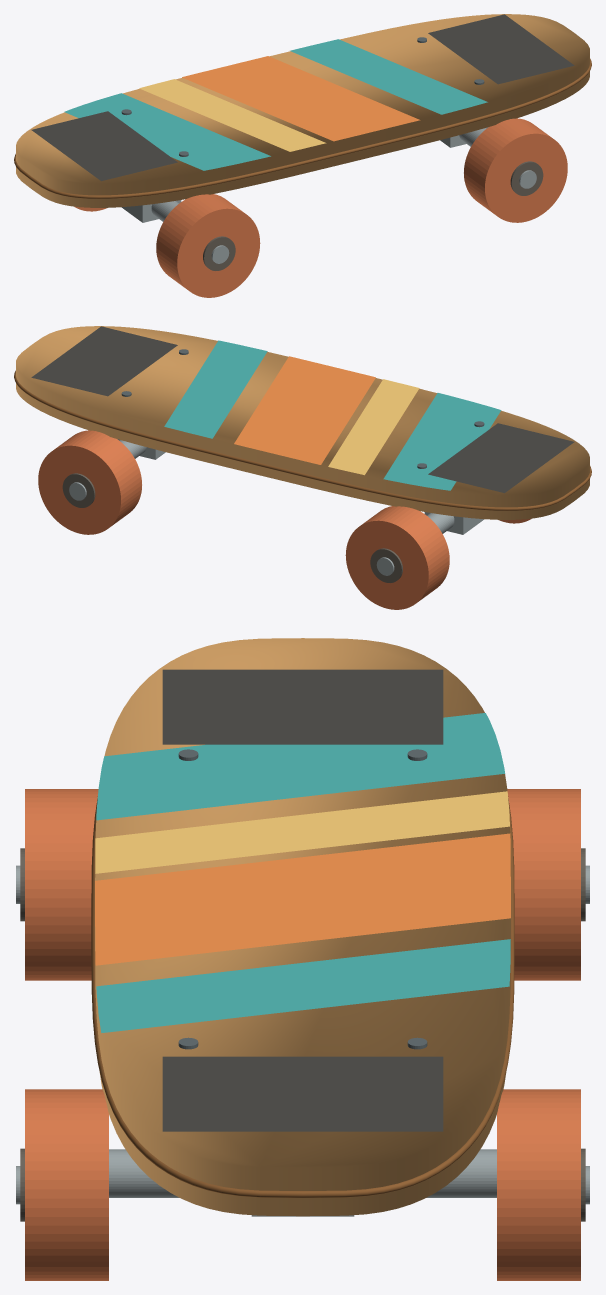
The model's file is skateboard.glb.
The picture shows the model from 3 angles, top to bottom: view 1: azimuth 30°, elevation 25°; view 2: azimuth 150°, elevation 25°; view 3: azimuth 270°, elevation 25°; orthographic projection. The views are drawn at different scales.
Parts seen in each view (by area): view 1: Deck | laminated maple, Graphic | orange ribbon, Rear wheel | orange urethane, Front wheel | orange urethane, Graphic | teal ribbon, Tail grip patch, Nose grip patch, Graphic | teal tail flash, Graphic | ochre ribbon, Visible dark ply line, Front wheel | bearing inset, Rear wheel | bearing inset (+1 smaller); view 2: Deck | laminated maple, Graphic | orange ribbon, Rear wheel | orange urethane.001, Front wheel | orange urethane.001, Graphic | teal ribbon, Tail grip patch, Nose grip patch, Graphic | teal tail flash, Graphic | ochre ribbon, Visible dark ply line, Front wheel | bearing inset.001, Rear wheel | bearing inset.001 (+1 smaller); view 3: Deck | laminated maple, Graphic | orange ribbon, Graphic | teal ribbon, Nose grip patch, Tail grip patch, Graphic | teal tail flash, Front wheel | orange urethane, Front wheel | orange urethane.001, Graphic | ochre ribbon, Rear wheel | orange urethane, Rear wheel | orange urethane.001, Visible dark ply line (+1 smaller).
Boxes of the visible parts, x1,y1,x2,y2 form: Deck | laminated maple: (16,14,589,207); Graphic | orange ribbon: (182,56,420,141); Rear wheel | orange urethane: (156,194,260,297); Front wheel | orange urethane: (464,118,567,222); Graphic | teal ribbon: (64,93,270,170); Tail grip patch: (31,111,177,181); Nose grip patch: (428,14,574,84); Graphic | teal tail flash: (290,39,487,114); Graphic | ochre ribbon: (139,79,326,151); Visible dark ply line: (14,58,591,198); Front wheel | bearing inset: (510,161,543,195); Rear wheel | bearing inset: (203,236,235,270); Deck | laminated maple: (16,326,589,519); Graphic | orange ribbon: (234,356,375,464); Rear wheel | orange urethane.001: (345,506,449,609); Front wheel | orange urethane.001: (38,430,141,534); Graphic | teal ribbon: (383,393,501,490); Tail grip patch: (428,423,574,493); Nose grip patch: (31,326,177,396); Graphic | teal tail flash: (164,340,267,438); Graphic | ochre ribbon: (328,379,419,475); Visible dark ply line: (14,370,591,510); Front wheel | bearing inset.001: (62,473,95,507); Rear wheel | bearing inset.001: (370,548,402,582); Deck | laminated maple: (95,638,510,1216); Graphic | orange ribbon: (95,833,510,965); Graphic | teal ribbon: (96,713,505,820); Nose grip patch: (162,1056,443,1131); Tail grip patch: (162,669,443,744); Graphic | teal tail flash: (96,939,510,1032); Front wheel | orange urethane: (25,1089,108,1280); Front wheel | orange urethane.001: (497,1089,580,1280); Graphic | ochre ribbon: (95,791,509,873); Rear wheel | orange urethane: (25,789,98,980); Rear wheel | orange urethane.001: (507,789,580,980); Visible dark ply line: (91,796,514,1197).
Size of the model in its own units: 2.7 by 0.529 by 1.23.
